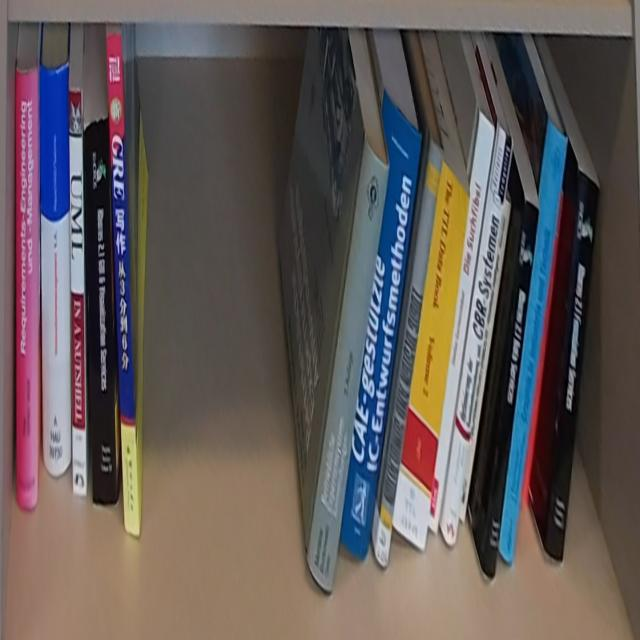Book Spine: (306, 135, 391, 589), (341, 90, 423, 556), (439, 121, 514, 546), (499, 117, 568, 567), (393, 158, 469, 553), (375, 137, 443, 570), (428, 112, 496, 538), (545, 167, 599, 562), (484, 199, 539, 579), (107, 34, 140, 537), (84, 117, 117, 506), (41, 62, 71, 476), (16, 68, 40, 511), (69, 90, 87, 499)
